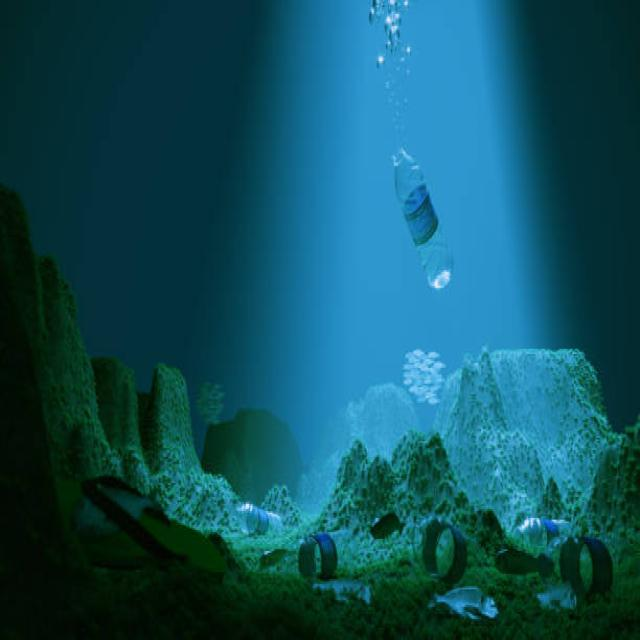plastic: (390, 141, 452, 307)
